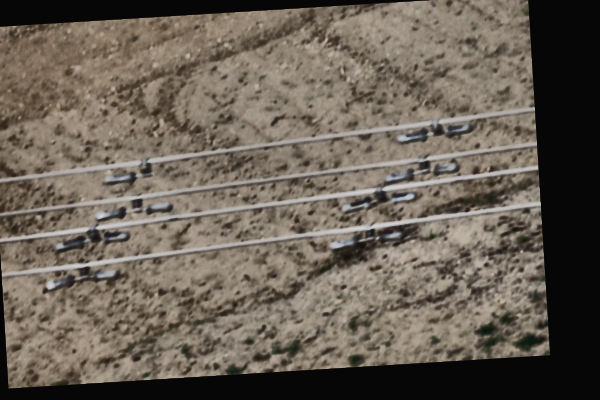damper: (41, 256, 120, 294), (94, 190, 177, 223), (49, 223, 136, 254), (336, 185, 419, 216), (327, 220, 405, 252), (379, 154, 461, 184), (392, 118, 475, 147)
damper_defect: (101, 155, 158, 186)
